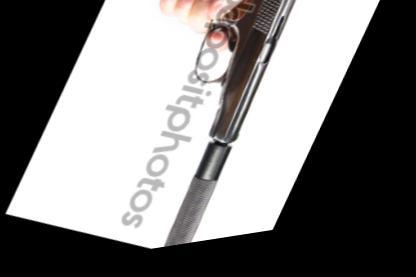pistol: (96, 0, 315, 166)
